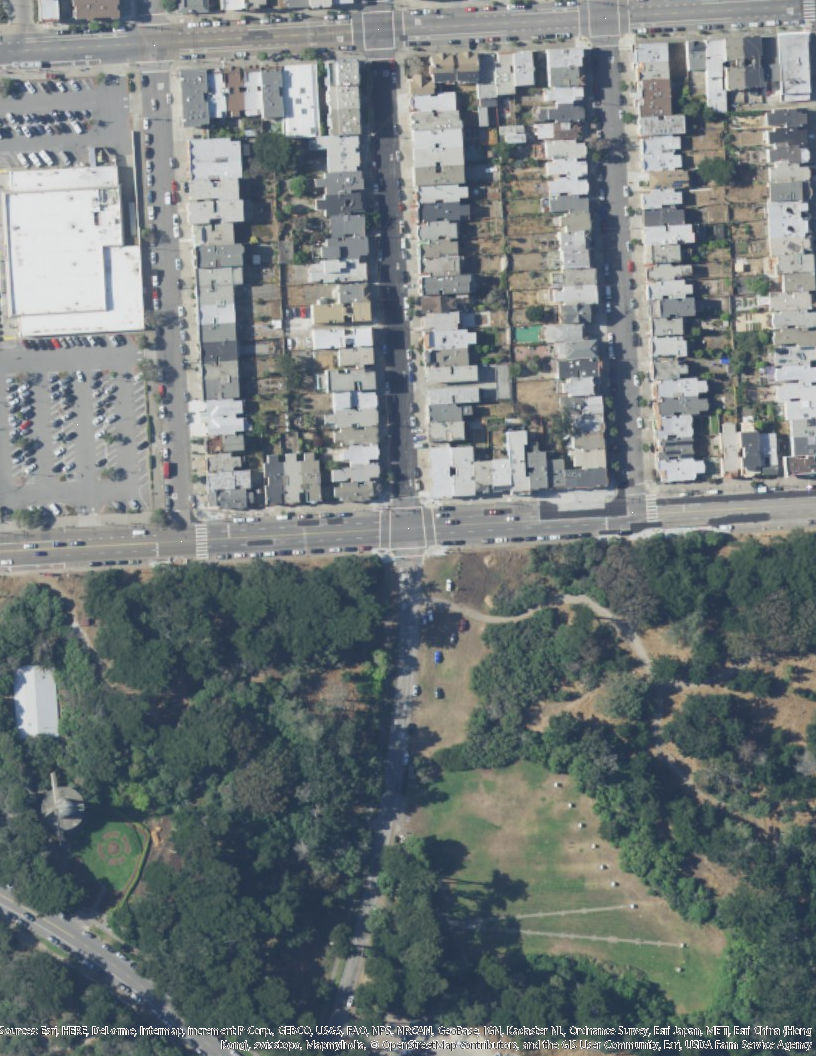zebracross: (194, 525, 209, 561), (802, 1, 815, 25)
